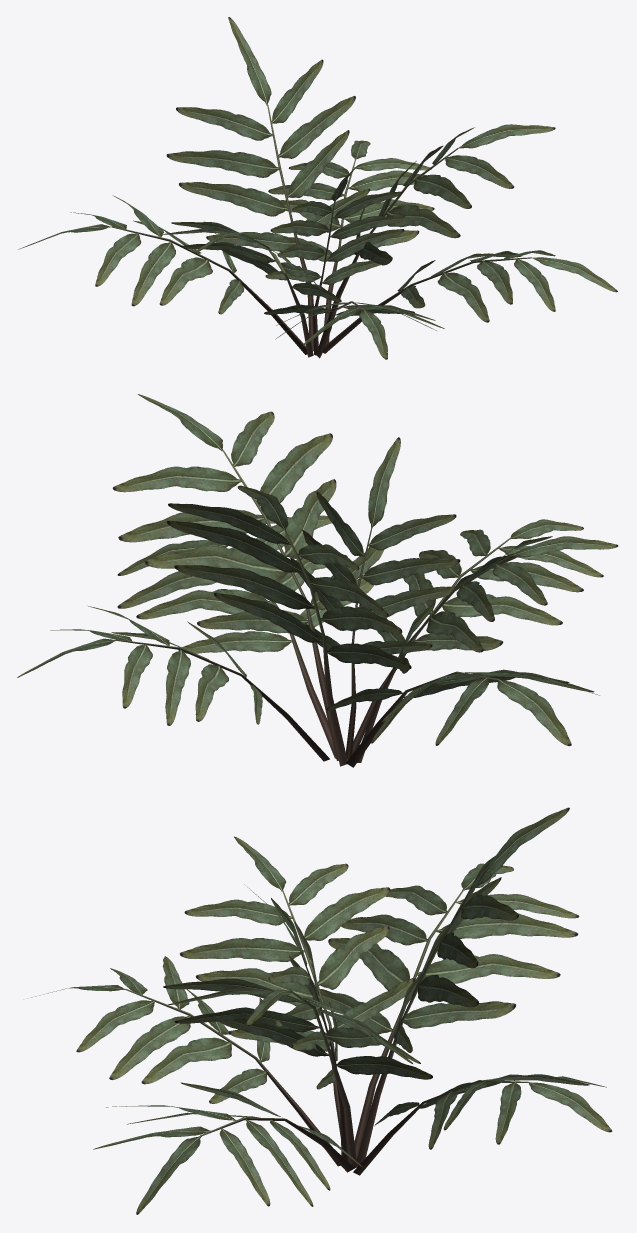
The model's file is foliage_fern_03_mesh.FBX.
The picture shows the model from 3 angles, top to bottom: view 1: azimuth 30°, elevation 25°; view 2: azimuth 150°, elevation 25°; view 3: azimuth 270°, elevation 25°; orthographic projection. The views are drawn at different scales.
Parts seen in each view (by area): view 1: foliage_fern_3; view 2: foliage_fern_3; view 3: foliage_fern_3.
Boxes of the visible parts, left/top/right/bottom form: foliage_fern_3: left=18, top=17, right=617, bottom=359; foliage_fern_3: left=17, top=394, right=618, bottom=767; foliage_fern_3: left=31, top=807, right=612, bottom=1214.
Size of the model in its own units: 1325 by 757 by 1148.
